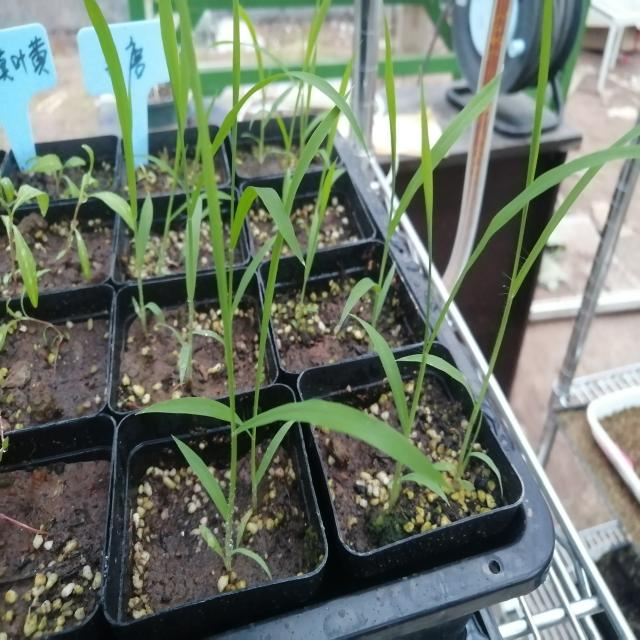crabgrass: (175, 68, 427, 534)
